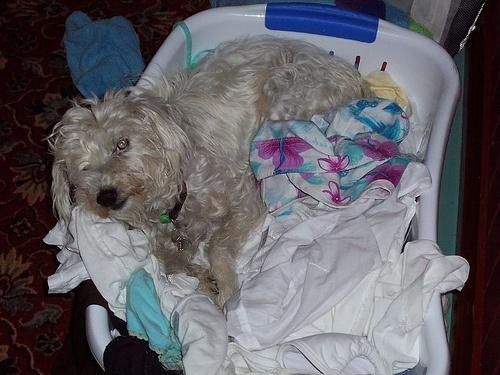dog: (48, 36, 373, 313)
